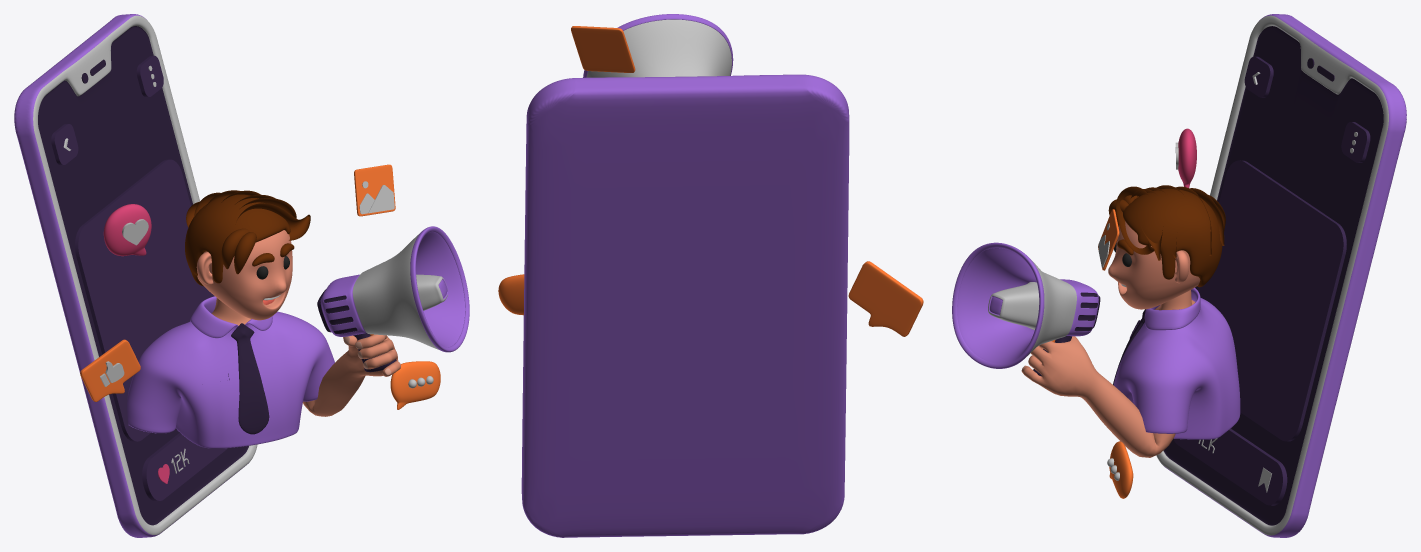
File: influencer-marketing-3d-animated-icon-1402488629215.glb
The picture shows the model from 3 angles, left to right: view 1: azimuth 30°, elevation 25°; view 2: azimuth 150°, elevation 25°; view 3: azimuth 270°, elevation 25°; orthographic projection. The views are drawn at different scales.
Visible parts, largest first — view 1: Phone, Shirt, Cube.017, Megaphone Speaker, Hair, Head, Hand, Cube.012, Tie, Megaphone Body, Chatbox, Like Icon (+2 smaller); view 2: Phone, Megaphone Speaker, Chatbox, Image Icon, Bubble Chat; view 3: Phone, Cube.017, Shirt, Megaphone Speaker, Hair, Hand, Cube.012, Head, Megaphone Body, Like Icon, Bubble Chat, Image Icon.
Boxes of the visible parts, x1,y1,x2,y2 form: Phone: (14, 14, 257, 537); Shirt: (127, 296, 334, 448); Cube.017: (51, 55, 214, 441); Megaphone Speaker: (352, 226, 469, 352); Hair: (185, 190, 310, 286); Head: (196, 230, 292, 320); Hand: (303, 334, 400, 416); Cube.012: (142, 433, 227, 501); Tie: (231, 323, 269, 434); Megaphone Body: (317, 274, 396, 372); Chatbox: (80, 339, 140, 401); Like Icon: (103, 204, 151, 256); Phone: (521, 74, 849, 537); Megaphone Speaker: (583, 14, 733, 77); Chatbox: (848, 261, 923, 336); Image Icon: (571, 26, 635, 72); Bubble Chat: (498, 274, 524, 315); Phone: (1156, 14, 1406, 537); Cube.017: (1197, 56, 1370, 441); Shirt: (1113, 287, 1240, 439); Megaphone Speaker: (952, 242, 1076, 368); Hair: (1108, 185, 1225, 287); Hand: (1021, 336, 1175, 457); Cube.012: (1173, 428, 1287, 505); Head: (1108, 221, 1200, 309); Megaphone Body: (1033, 279, 1100, 376); Like Icon: (1175, 128, 1196, 187); Bubble Chat: (1109, 441, 1133, 498); Image Icon: (1098, 209, 1119, 270).
Size of what is drawn, in the model's own units: 1.61 by 1.84 by 1.78.
